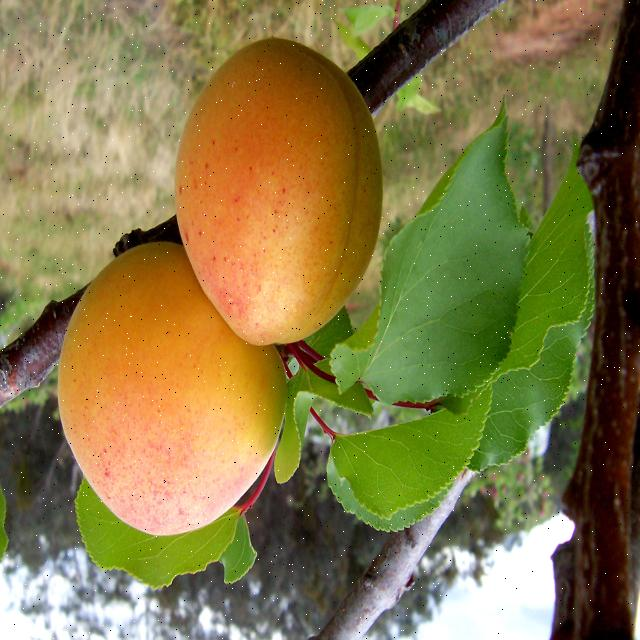kayisi: (58, 255, 286, 538), (172, 37, 380, 331)
kayisi yapragi: (331, 103, 529, 405), (468, 145, 599, 473), (320, 395, 493, 531), (72, 479, 259, 595), (0, 475, 8, 568)
